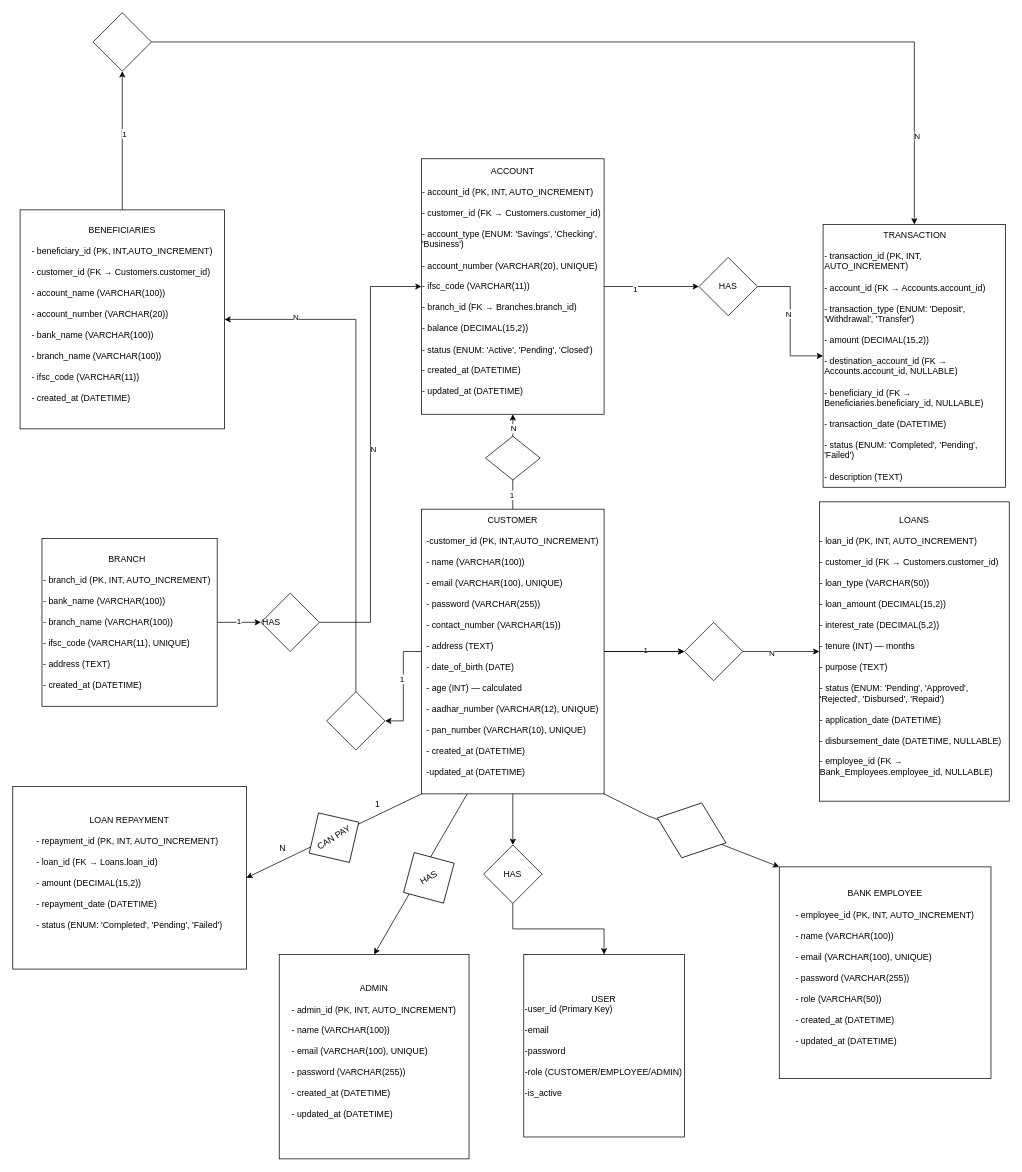
Image size: 1022x1172. Some labels were removed from this diagram. Here are the shapes that lost their labels. From the top down, the box of each, then its label:
(92, 12, 151, 71): CONTAINS
(485, 435, 540, 480): CREATES
(684, 622, 743, 681): TAKES
(326, 691, 385, 750): MANAGES
(647, 790, 736, 870): CAN APPLY
